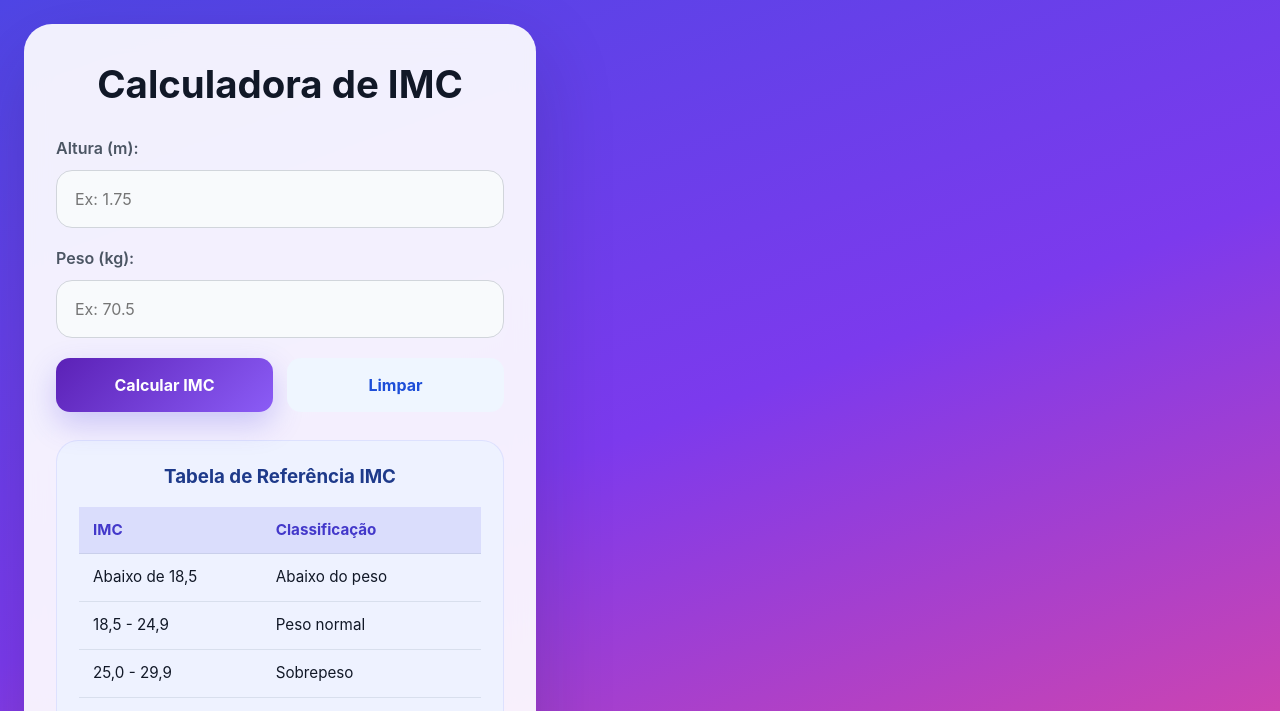
Scenario: calcula IMC com vírgula decimal e classifica abaixo do peso
Type "1,70" into the field labelled "Altura (m):". click: [280, 199]
box: [56,170,504,228]
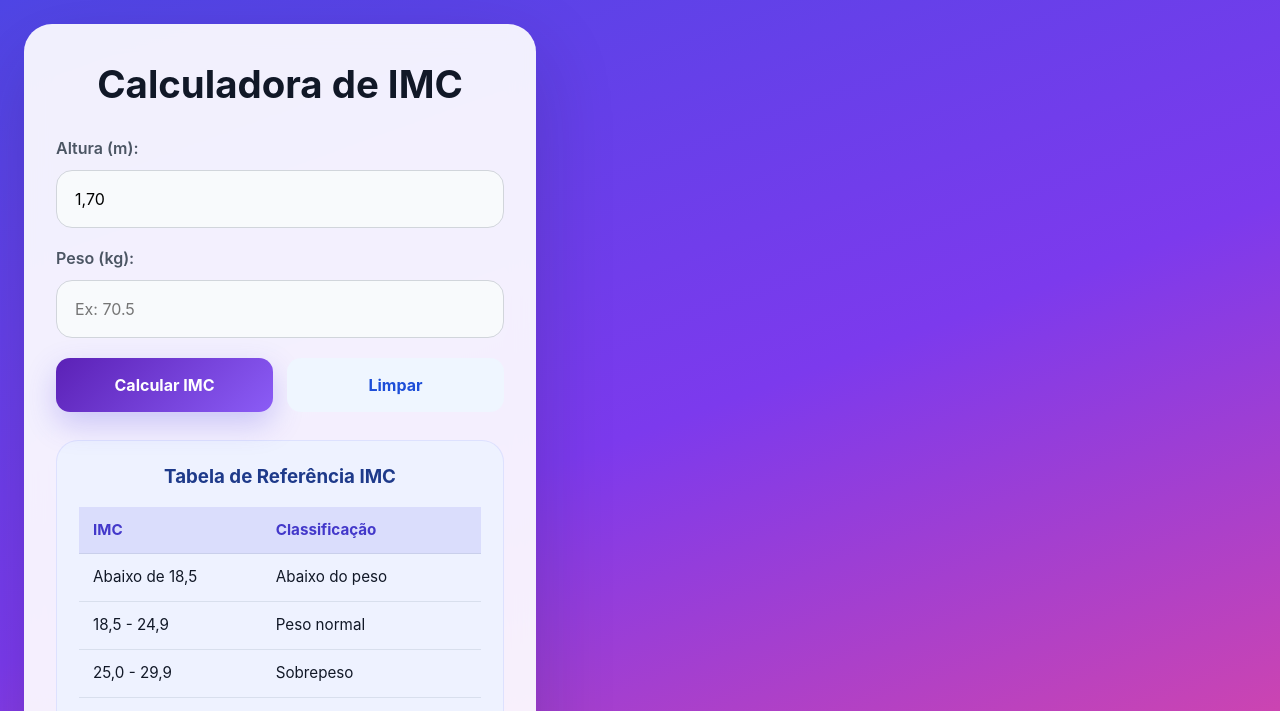
Type "50" into the field labelled "Peso (kg):". click: [280, 309]
box: [56,280,504,338]
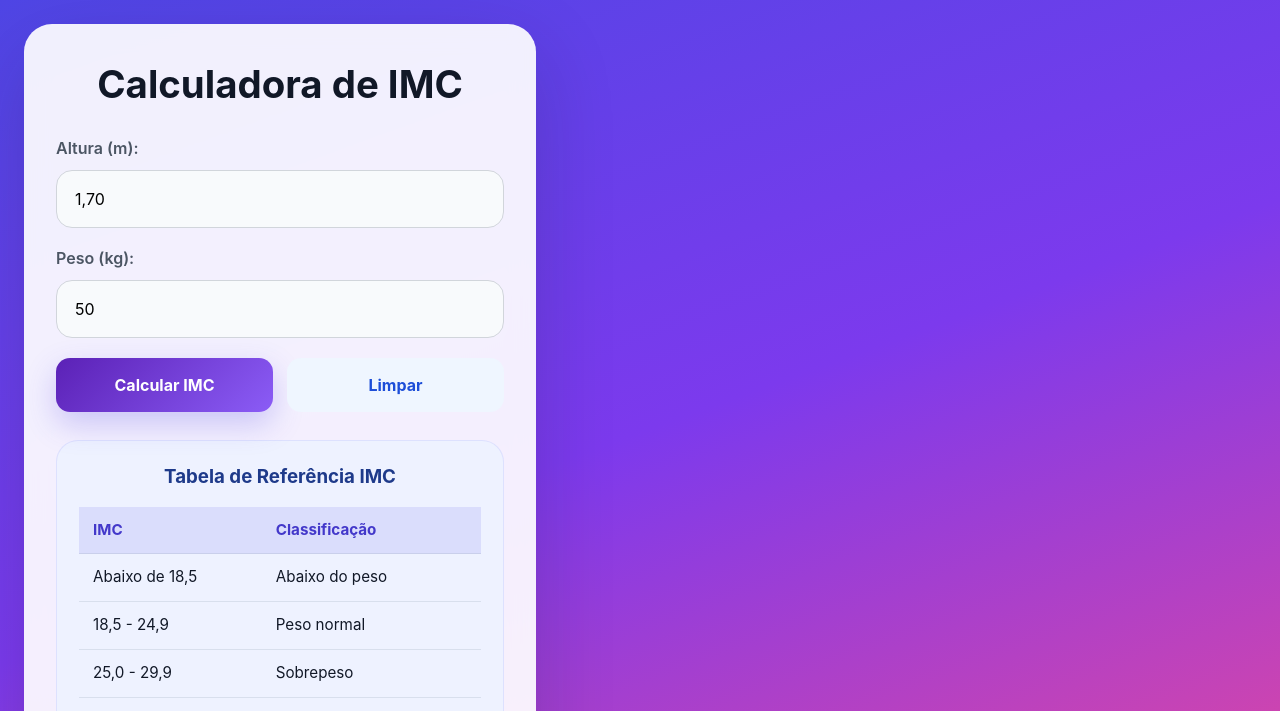
Click the button "Calcular IMC". click: [164, 385]
box: [56,358,273,412]
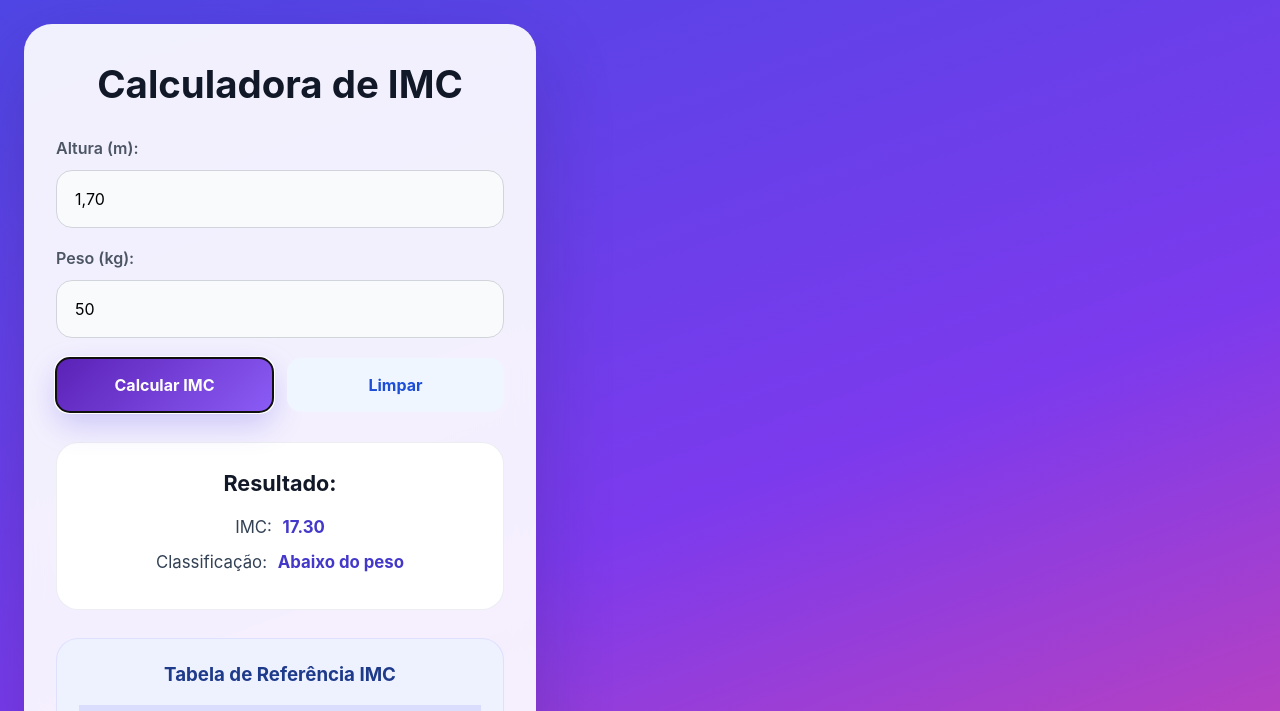
Check: the text "IMC: 17.30" is shown, box [235,517,325,537]
Check: the text "Classificação: Abaixo do peso" is shown, box [156,552,404,572]
